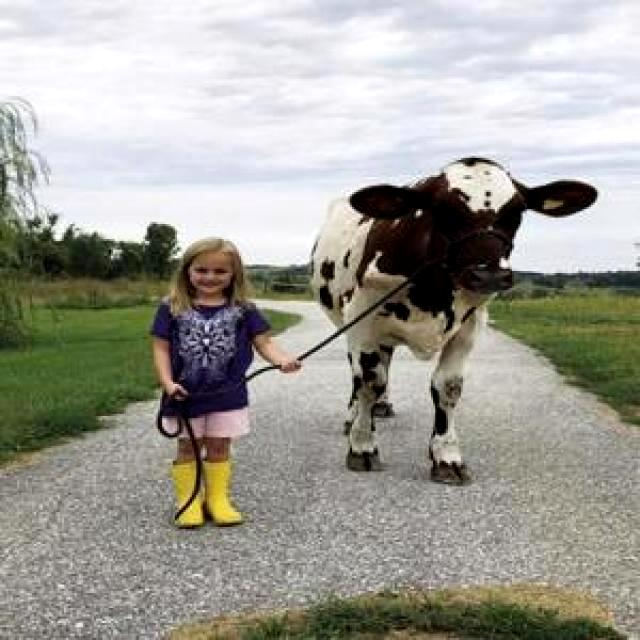COW: (311, 158, 598, 481)
